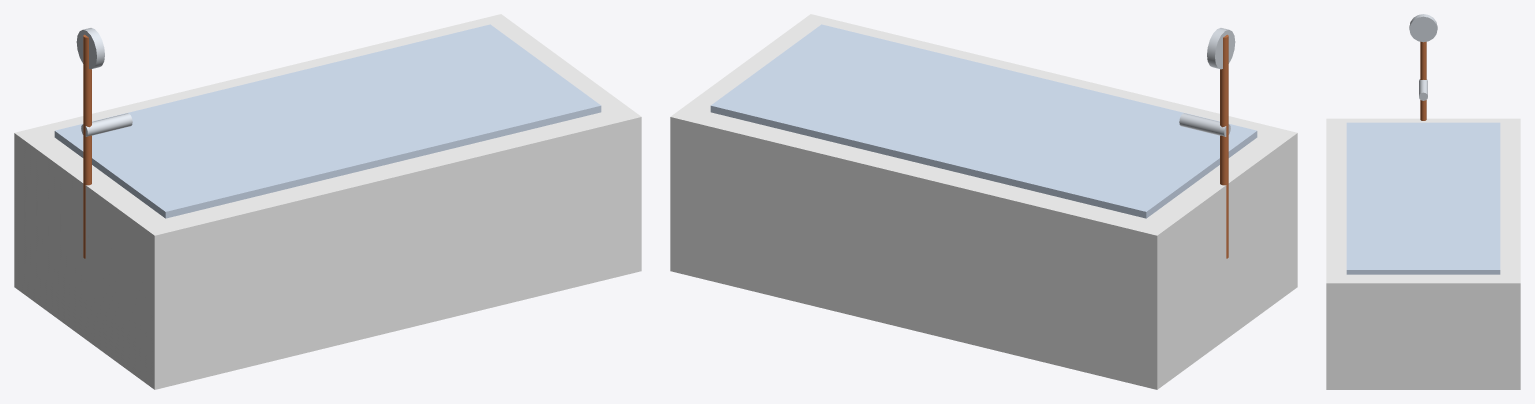
The model's file is fixture-bathtub.glb.
3 views of the same model, side by side, from view 1: azimuth 30°, elevation 25°; view 2: azimuth 150°, elevation 25°; view 3: azimuth 270°, elevation 25° (orthographic). The views are drawn at different scales.
Parts seen in each view (by area): view 1: plumbing-fixture-bathtub; view 2: plumbing-fixture-bathtub; view 3: plumbing-fixture-bathtub.
Part boxes in pixels (x1,y1,x2,y2): plumbing-fixture-bathtub: [14, 14, 641, 389]; plumbing-fixture-bathtub: [670, 14, 1297, 389]; plumbing-fixture-bathtub: [1326, 14, 1520, 389].
Size of the model in its own units: 1.52 by 0.915 by 0.76.
